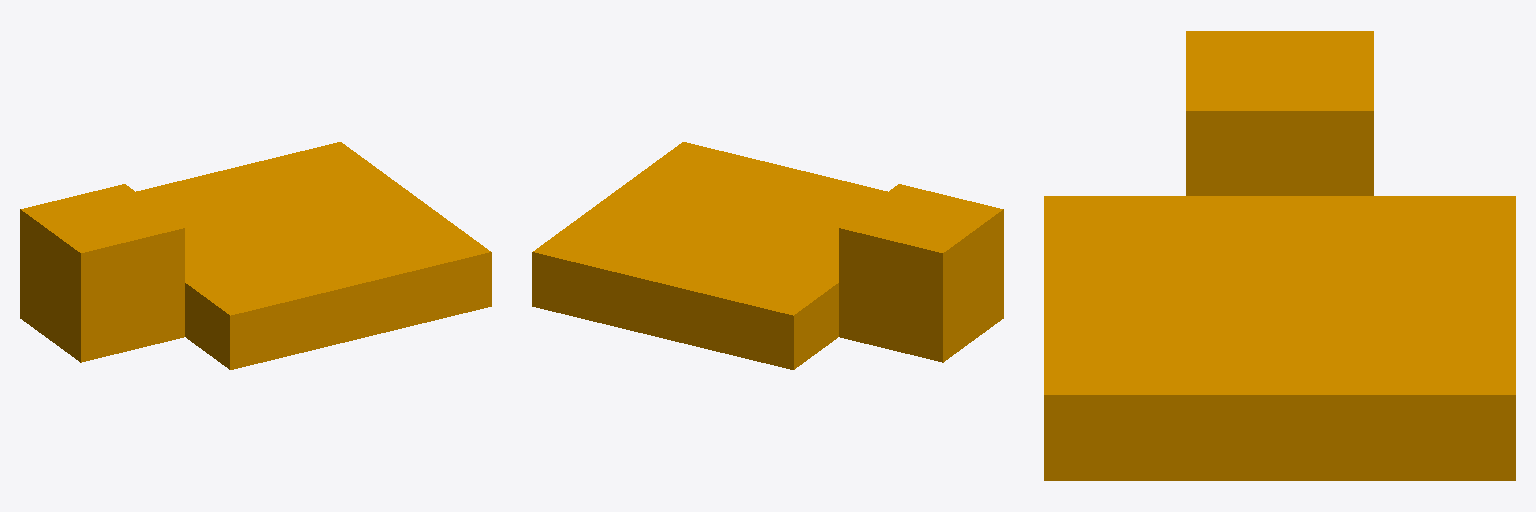
URDF robot description (your_robot_name):
<robot name="your_robot_name">
    <link name="base_link">
        <visual>
            <origin rpy="0 0 0" xyz="0 0 0" />
            <geometry>
                <mesh filename="stl/plate.stl" scale="0.001 0.001 0.001" />
            </geometry>
        </visual>
        <!-- <collision>
            <origin rpy="0 0 0" xyz="0 0 0" />
            <geometry>
                <mesh filename="stl/plate.stl" scale="0.001 0.001 0.001" />
            </geometry>
        </collision> -->
        <inertial>
            <origin rpy="0 0 0" xyz="0 0 0" />
            <mass value="0" />
            <inertia ixx="1" ixy="0" ixz="0" iyy="1" iyz="0" izz="1" />
        </inertial>
    </link>
</robot>

--- Facts derived from the render (not from the file) ---
The picture shows the robot from 3 angles, left to right: view 1: azimuth 30°, elevation 25°; view 2: azimuth 150°, elevation 25°; view 3: azimuth 270°, elevation 25°; orthographic projection.
Model your_robot_name with 1 links and 0 joints (none), rooted at base_link, posed every joint at zero.
Visible links, largest first — view 1: base_link; view 2: base_link; view 3: base_link.
Boxes of the visible links, <box> form: base_link: <box>20,142,491,369</box>; base_link: <box>532,142,1003,369</box>; base_link: <box>1044,31,1515,480</box>.
Bounding box of the posed robot: 0.14 × 0.1 × 0.04 m (x, y, z).
Meshes: 1 distinct files referenced, 1 mesh visuals loaded (1 binary STL).